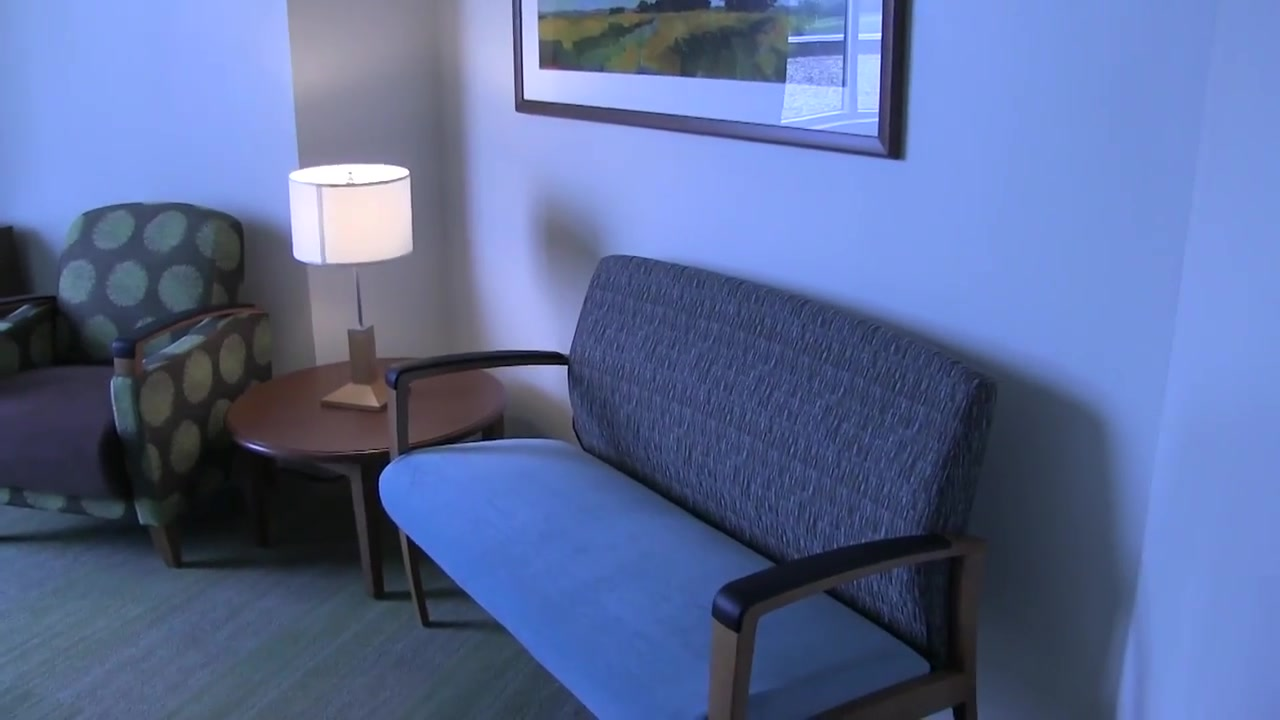sofa: (378, 254, 1001, 720), (1, 202, 276, 570)
table: (229, 353, 511, 602)
